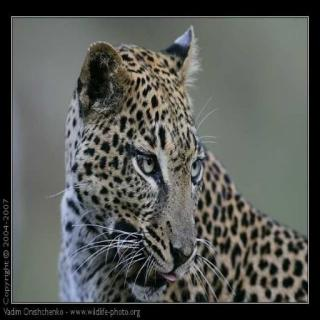Leopard: (48, 25, 306, 298)
